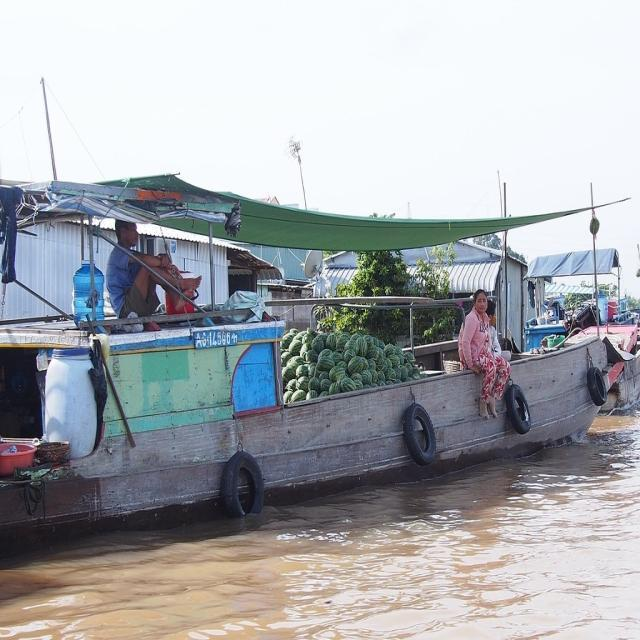boat: (4, 320, 612, 532)
